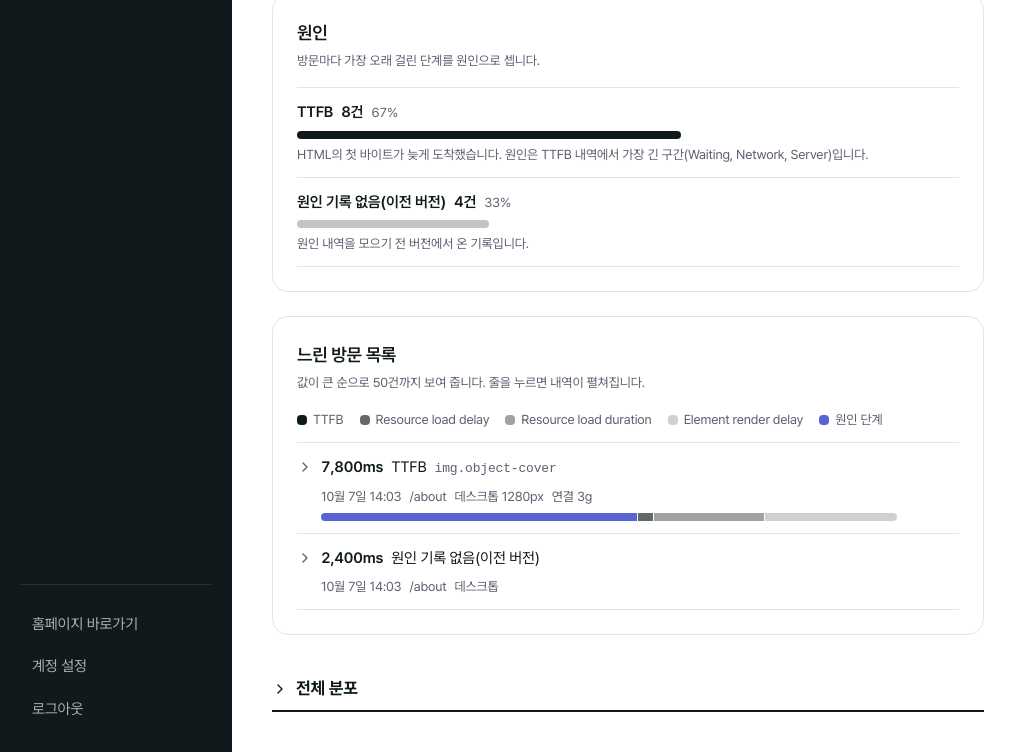
Scenario: 관리자 성능 화면 › 목록 줄을 펼치면 단계별 시간 표와 원인 내역을 보여 준다
(page scrolled)
Expected: the text "10월 7일 14:03" in the row of "1280px" is shown, [321,489,402,504]
Expected: the text "데스크톱 1280px" is shown, [454,486,544,507]
Click the text "7,800ms" at [352, 468], box [321,455,383,480]
(page scrolled)
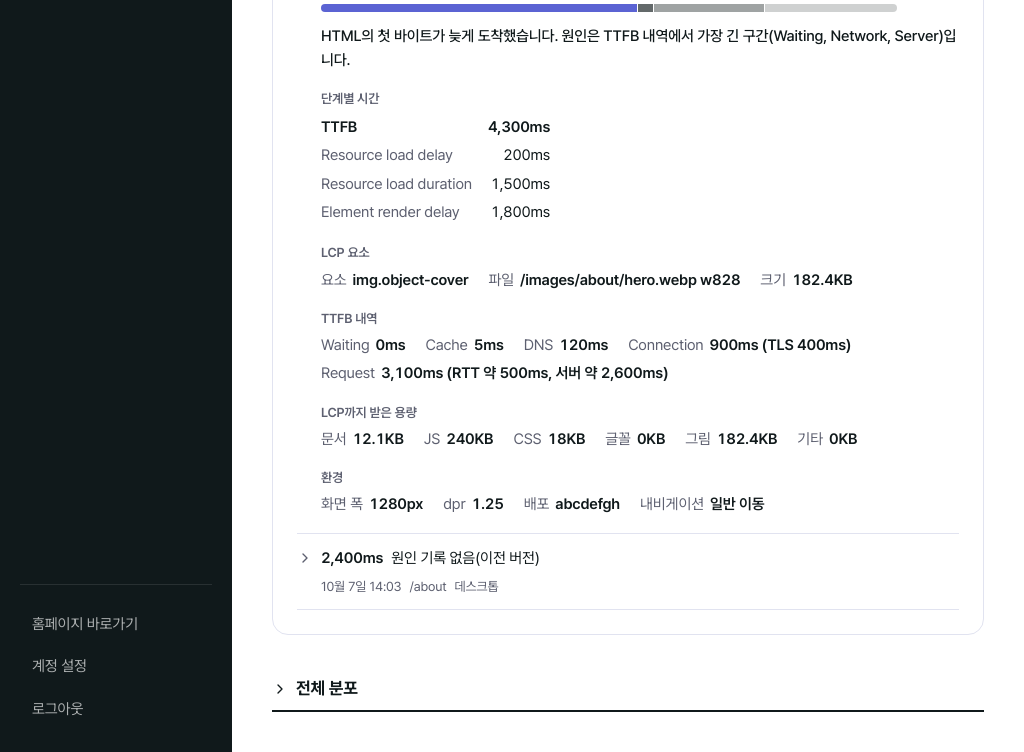
Now the table "단계별 시간" is shown, box [321,88,550,226]
Now the row "TTFB 4,300ms" is shown, box [321,113,550,141]
Now the text "/images/about/hero.webp w828" is shown, box [520,268,740,292]
Click the text "2,400ms" at [352, 558], box [321,546,383,570]
(page scrolled)
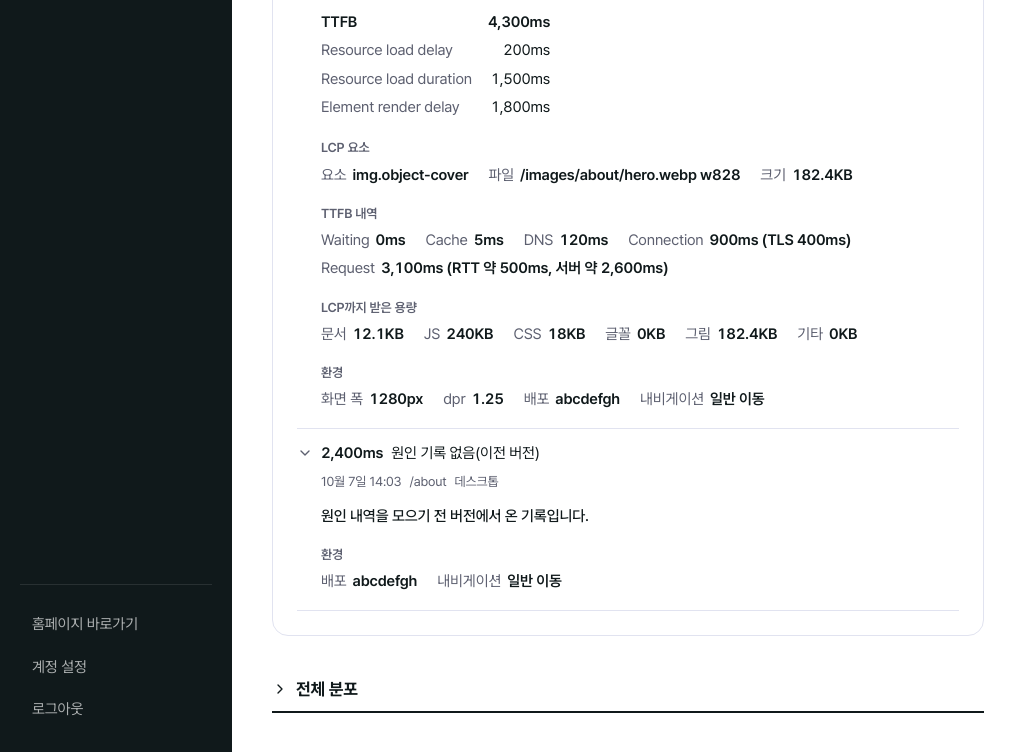
Now the text "원인 내역을 모으기 전 버전에서 온 기록입니다." is shown, box [321,507,589,525]
